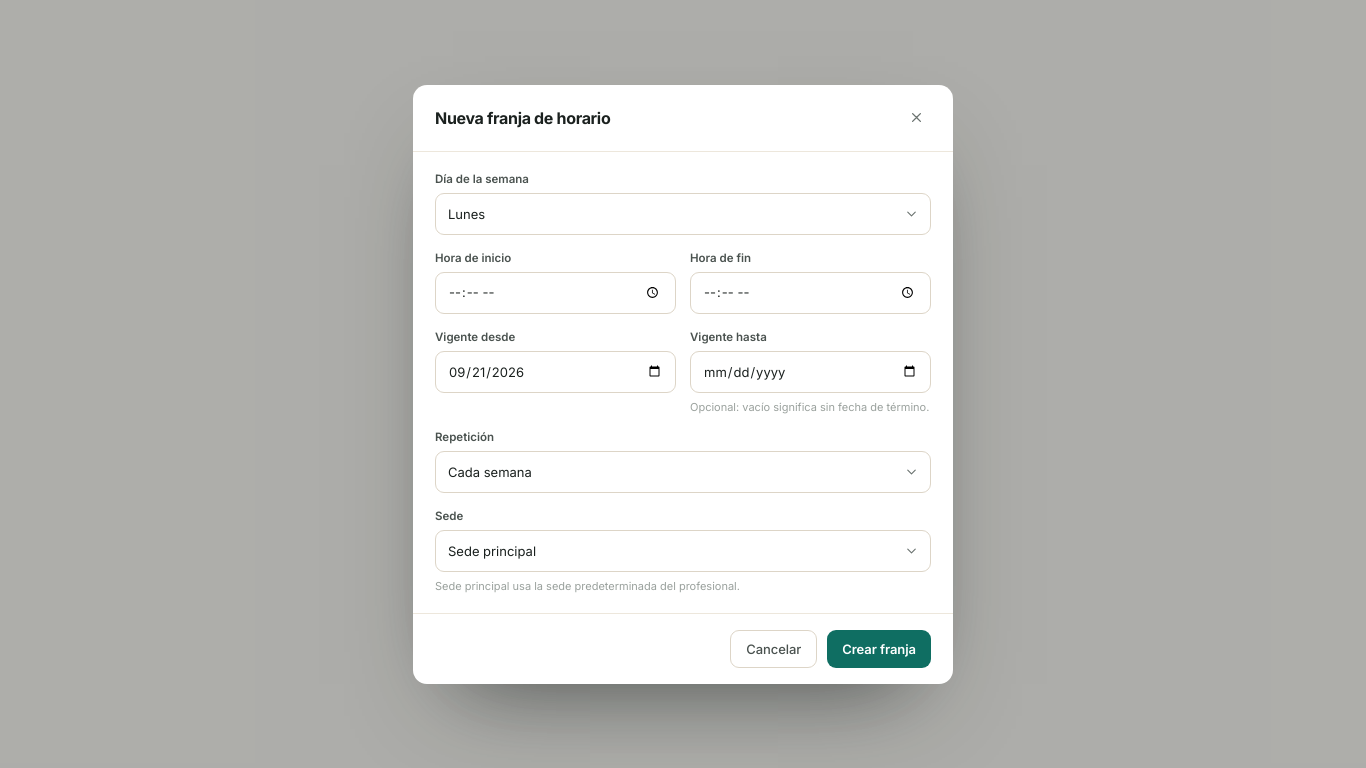
Test case: WorkScheduleModal failures › shows the mapped server error and keeps the dialog open
This screenshot has width=1366, height=768.
Step 1. Type "09:00" into the time field labelled "Hora de inicio" → (556, 292), box [435,272,676,314]
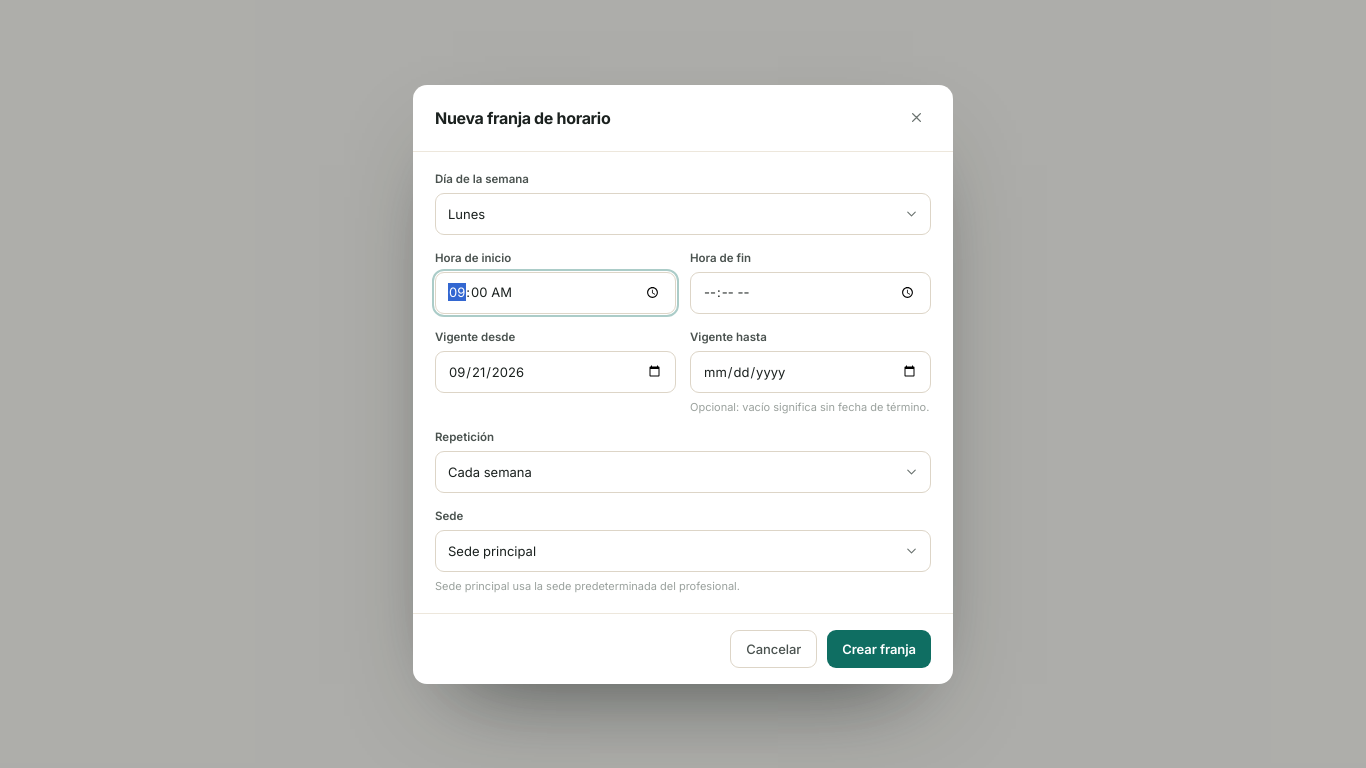
Step 2. Type "14:00" into the time field labelled "Hora de fin" → (810, 292), box [690,272,931,314]
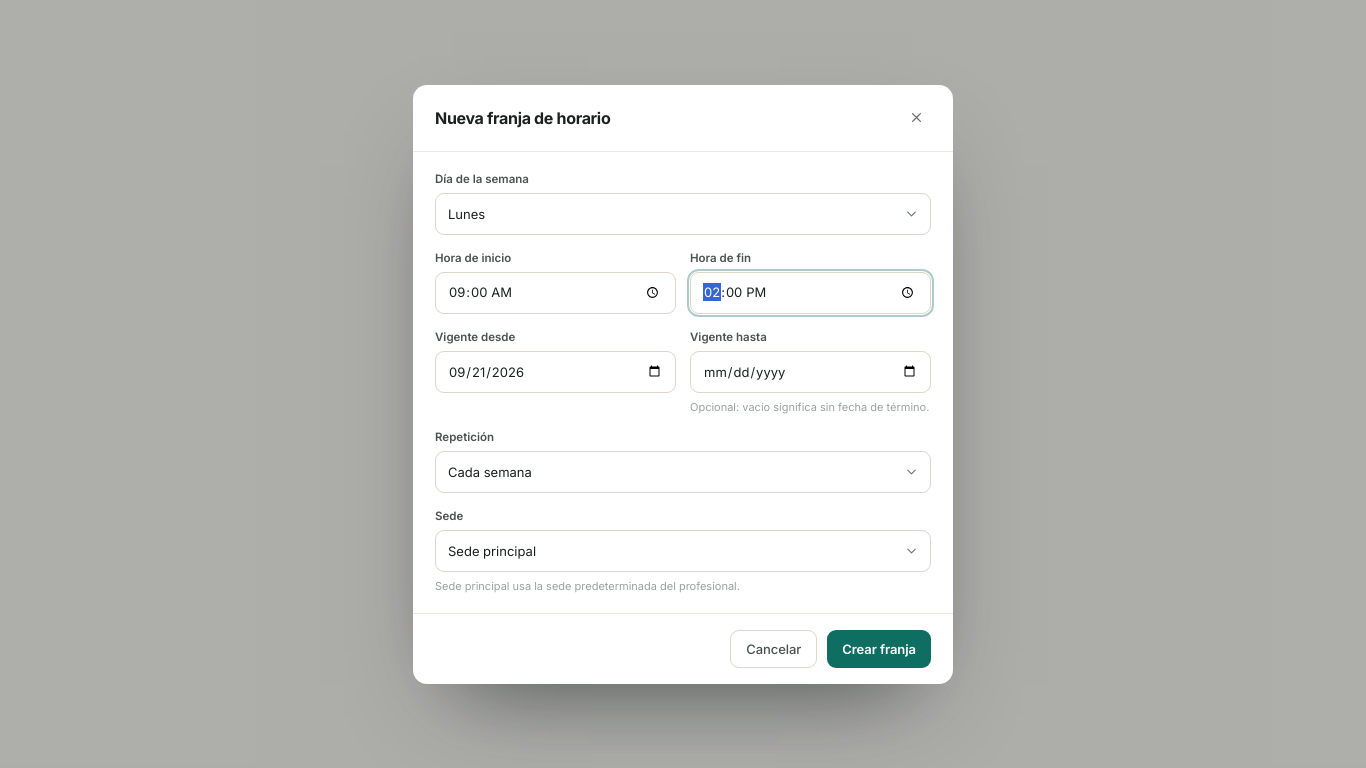
Step 3. Click the button "Crear franja" → (879, 648), box [827,630,931,668]
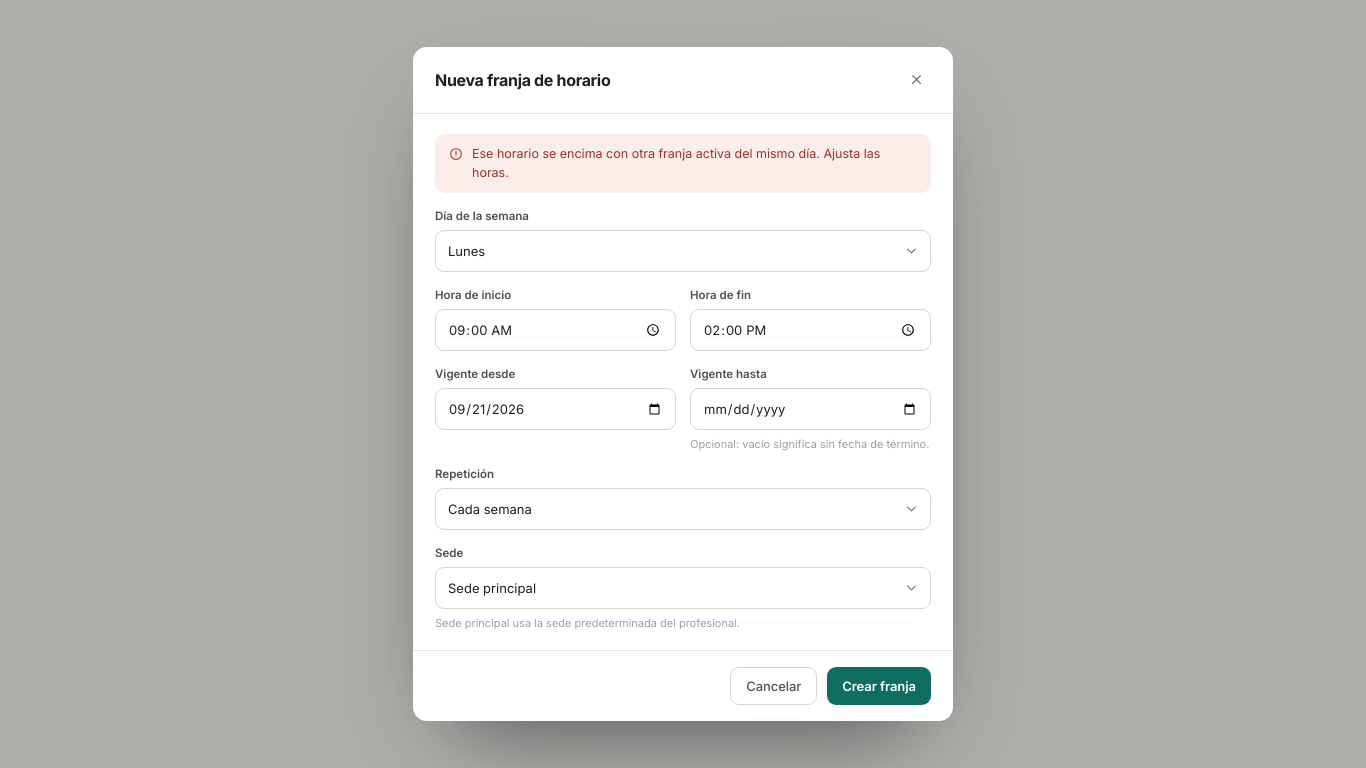
Now the text "se encima" is shown, box [472,146,880,180]
